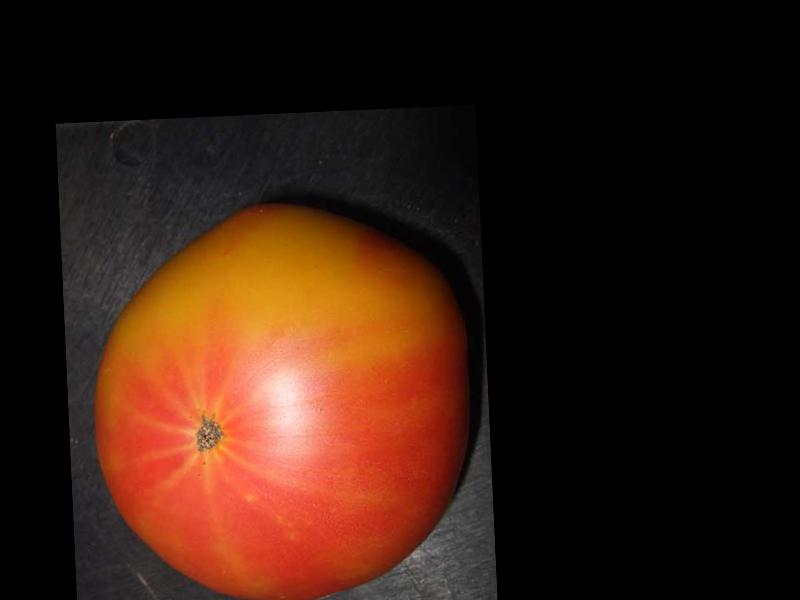Tomato: (85, 200, 481, 600)
